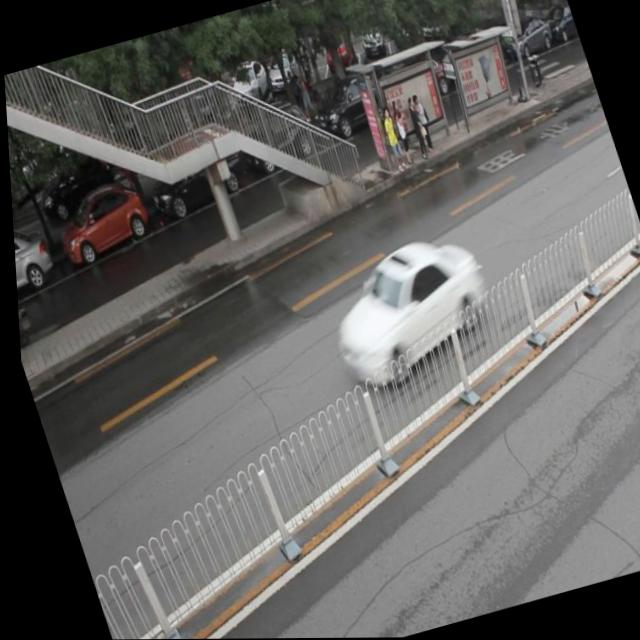car: (305, 227, 499, 390), (133, 121, 249, 219), (45, 177, 157, 267), (306, 67, 393, 145), (234, 98, 318, 176), (10, 222, 54, 298)
